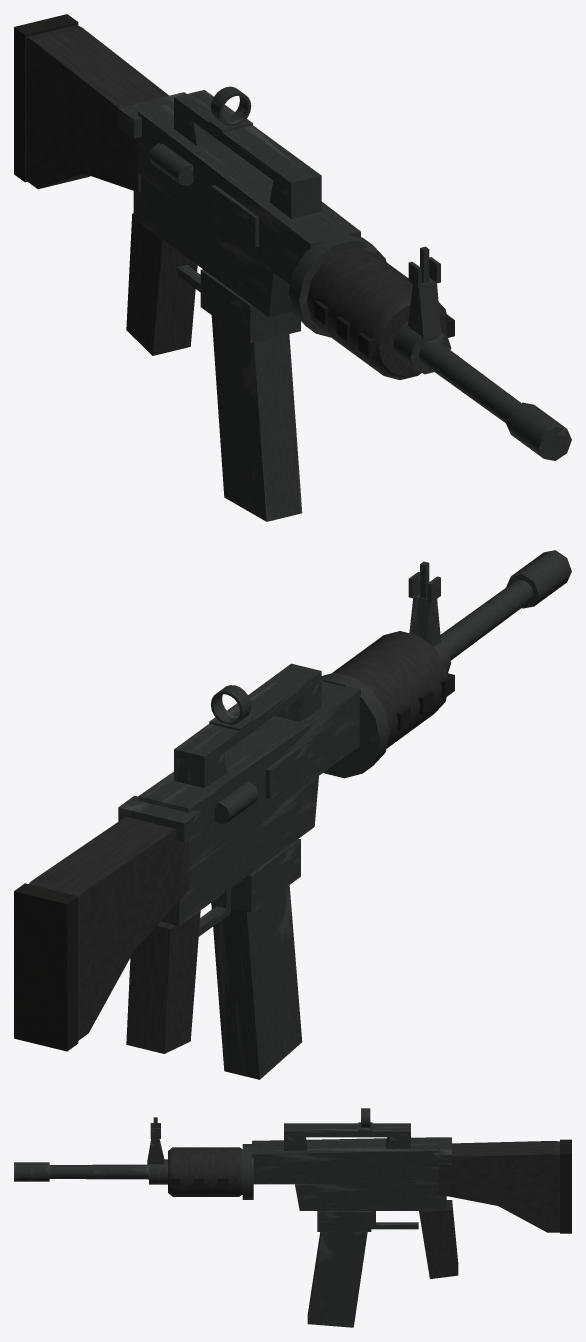
File: weapon-smg.glb
The picture shows the model from 3 angles, top to bottom: view 1: azimuth 30°, elevation 25°; view 2: azimuth 150°, elevation 25°; view 3: azimuth 270°, elevation 25°; orthographic projection. The views are drawn at different scales.
Visible parts, largest first — view 1: weapon-smg, magazine; view 2: weapon-smg, magazine; view 3: weapon-smg, magazine.
Part boxes in pixels (x1,y1,x2,y2): weapon-smg: [14, 14, 571, 460]; magazine: [211, 315, 302, 521]; weapon-smg: [14, 550, 571, 1053]; magazine: [211, 885, 302, 1079]; weapon-smg: [14, 1108, 571, 1278]; magazine: [307, 1232, 367, 1327].
Size of the model in its own units: 0.072 by 0.2975 by 0.703.
Materials: 1 (1 with a texture image).
